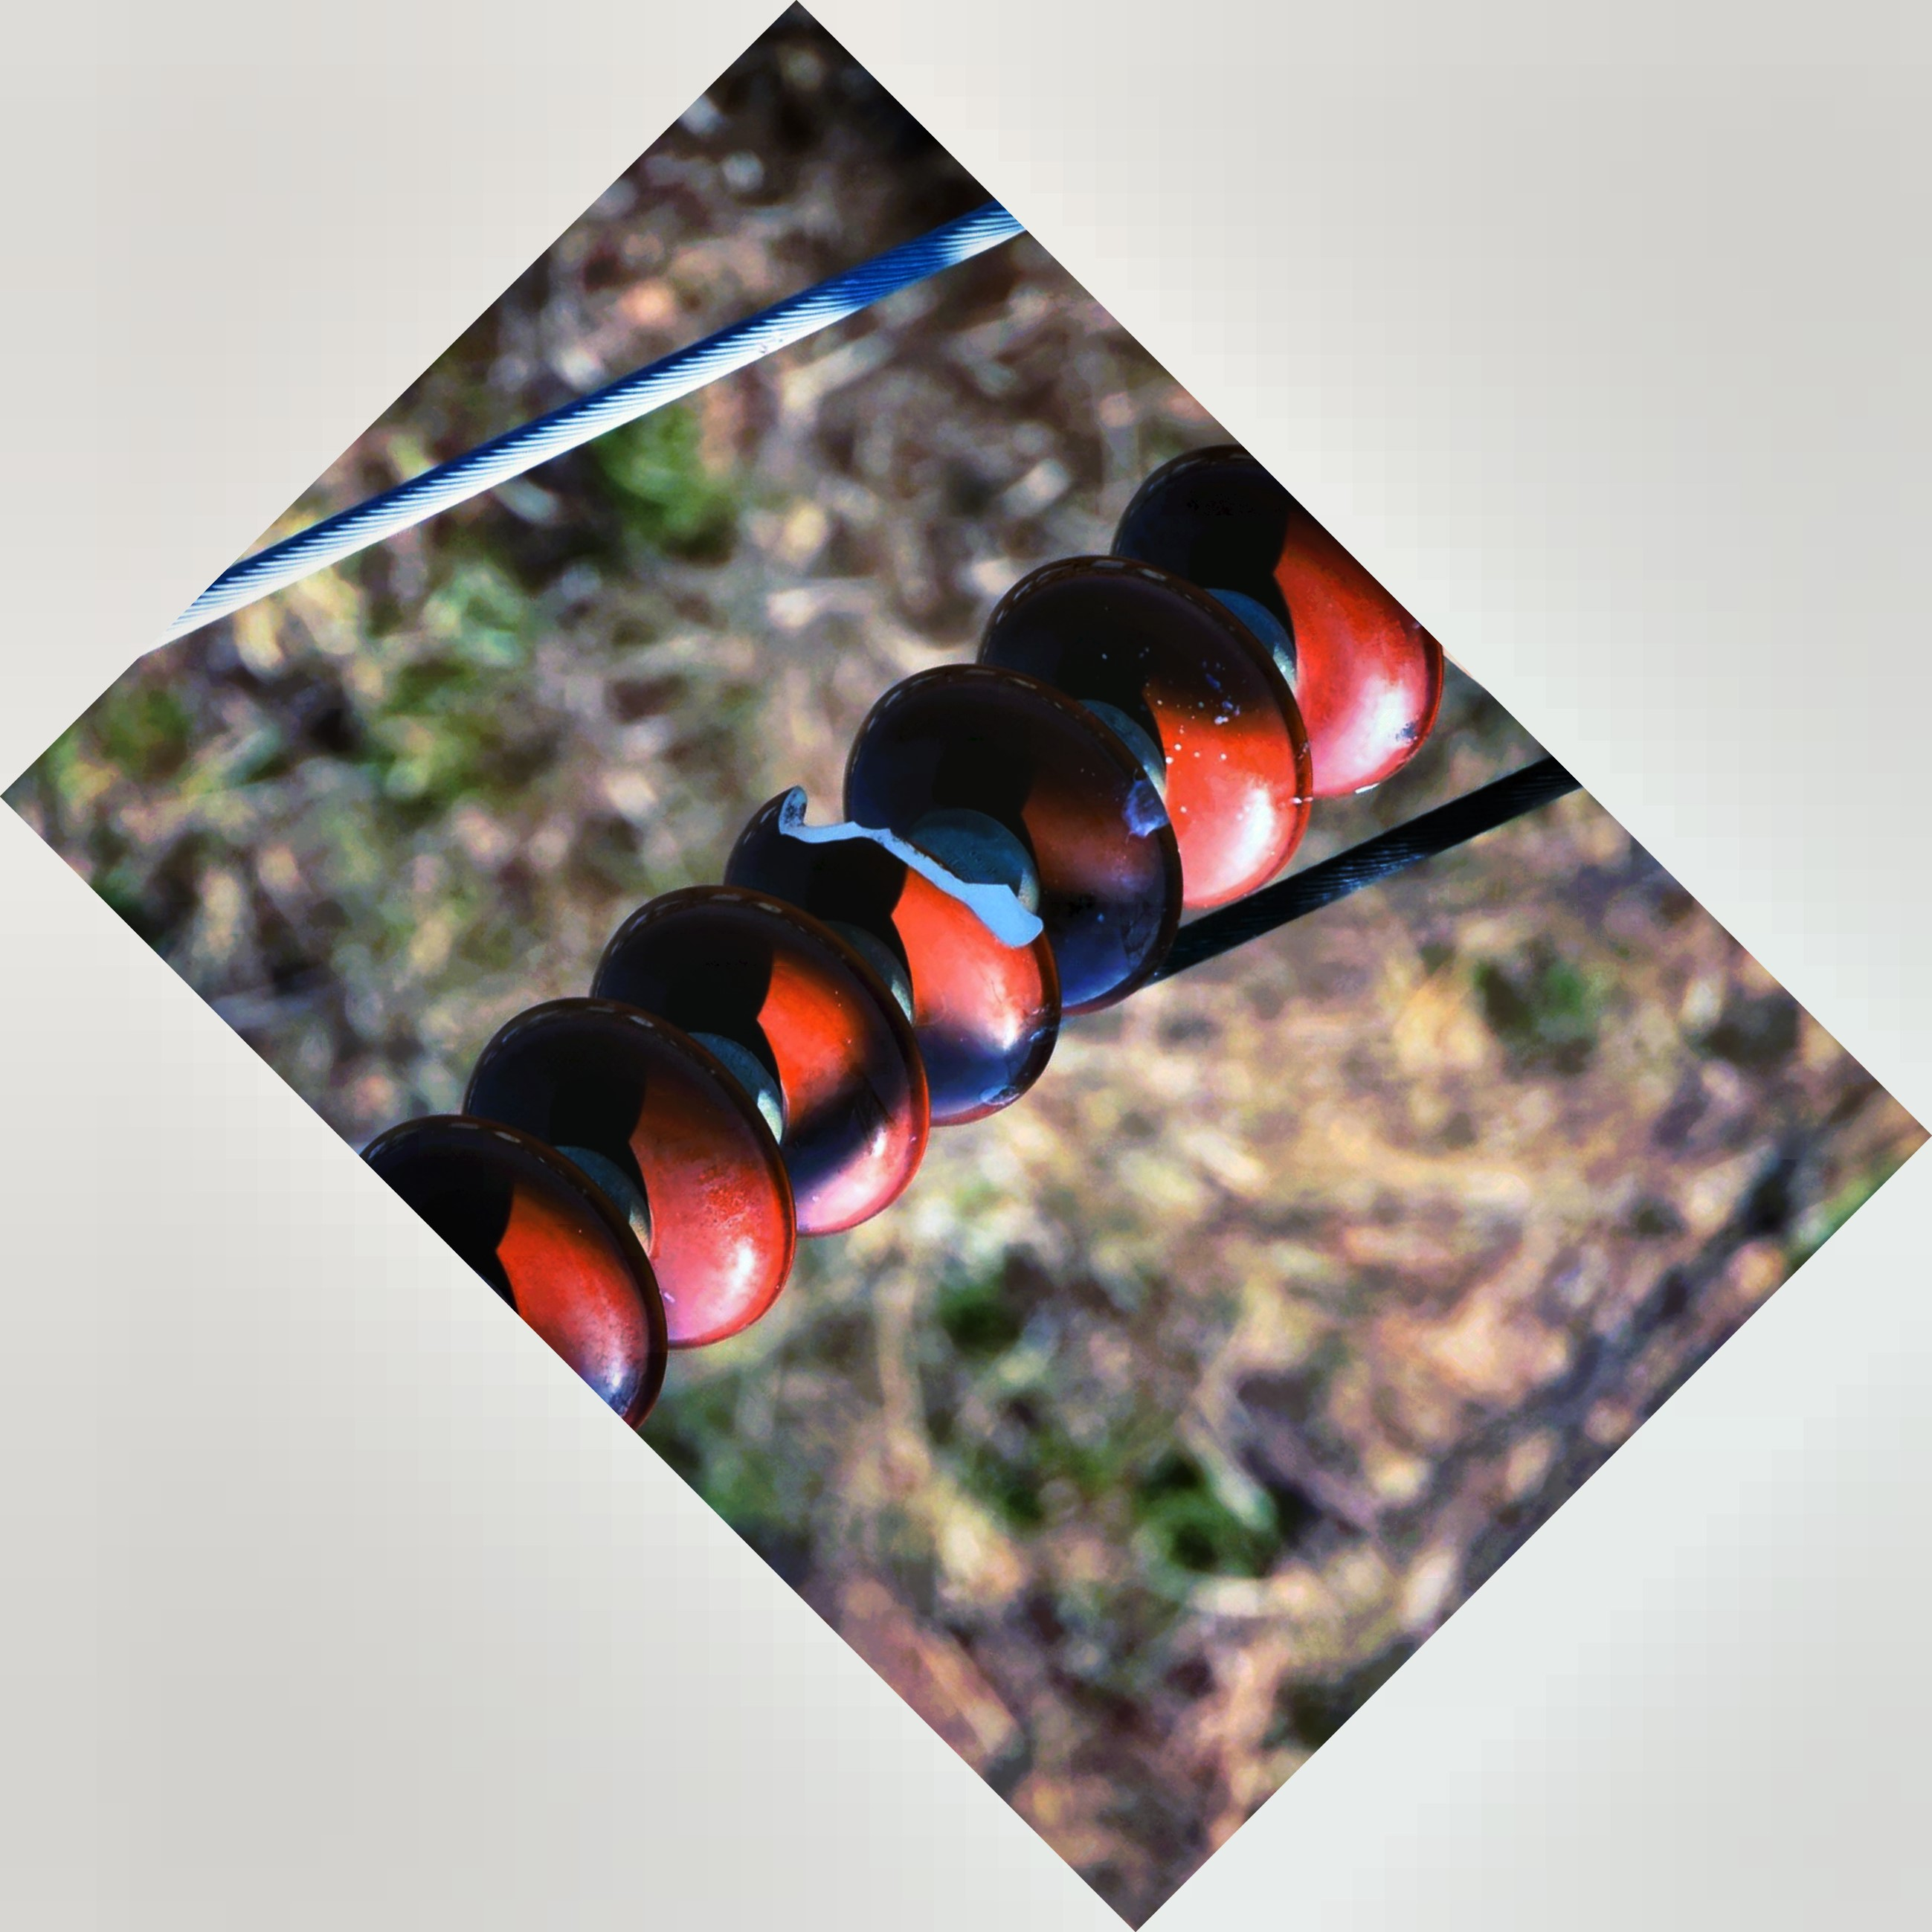insulator breakage: (720, 755, 1070, 1139)
